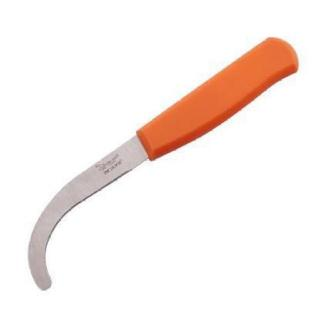knife: (9, 103, 152, 315)
